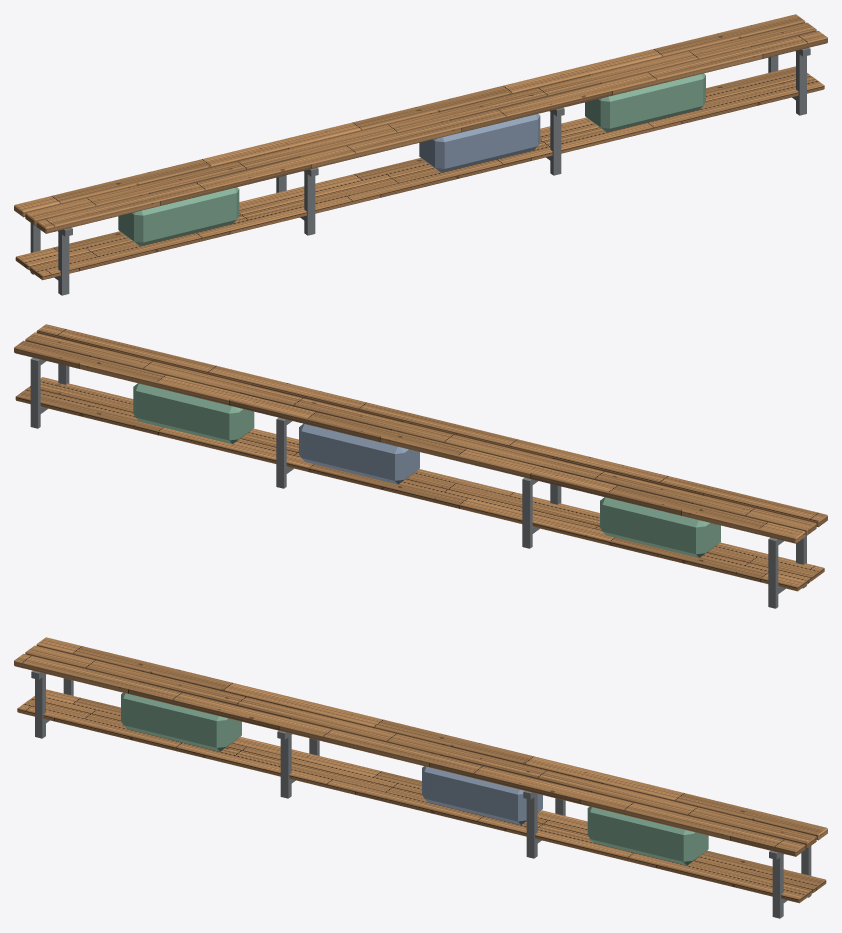
The model's file is dugout_bench.glb.
3 views of the same model, one above another, from view 1: azimuth 30°, elevation 25°; view 2: azimuth 150°, elevation 25°; view 3: azimuth 330°, elevation 25° (orthographic).
Visible parts, largest first — view 1: dugout_bench_bench_w, dugout_bench_canvas, dugout_bench_tarp, dugout_bench_steel_d; view 2: dugout_bench_bench_w, dugout_bench_canvas, dugout_bench_tarp, dugout_bench_steel_d; view 3: dugout_bench_bench_w, dugout_bench_canvas, dugout_bench_steel_d, dugout_bench_tarp.
Part boxes in pixels (x1,y1,x2,y2): dugout_bench_bench_w: [14, 14, 827, 280]; dugout_bench_canvas: [118, 73, 705, 245]; dugout_bench_tarp: [419, 114, 540, 172]; dugout_bench_steel_d: [30, 48, 810, 295]; dugout_bench_bench_w: [14, 324, 827, 591]; dugout_bench_canvas: [133, 383, 720, 557]; dugout_bench_tarp: [299, 423, 419, 484]; dugout_bench_steel_d: [30, 357, 806, 608]; dugout_bench_bench_w: [14, 637, 827, 903]; dugout_bench_canvas: [121, 692, 708, 865]; dugout_bench_steel_d: [31, 671, 811, 918]; dugout_bench_tarp: [422, 766, 542, 824].
Bounding box in the file's own units: 5.2 × 0.47 × 0.4.
5 materials, 1 textured.
